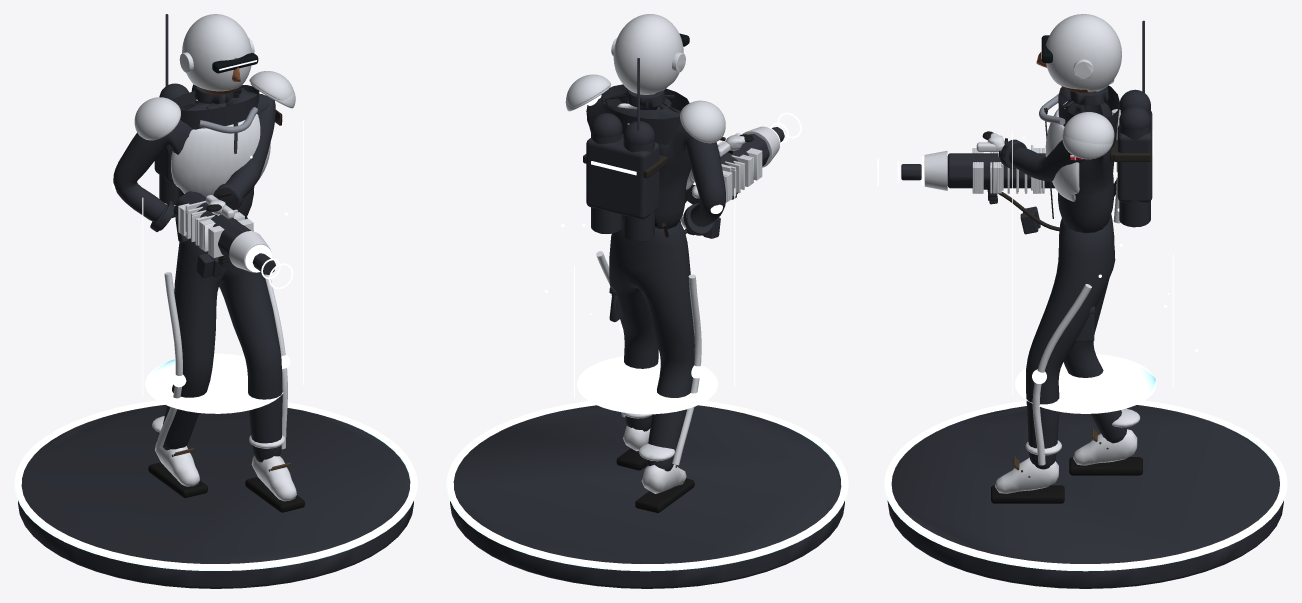
File: straale_krom.glb
3 renders of one model, left to right at view 1: azimuth 30°, elevation 25°; view 2: azimuth 150°, elevation 25°; view 3: azimuth 270°, elevation 25°, orthographic.
Visible parts, largest first — view 1: fod_net, menneske_net, op2.001_net, op4.002_net, hoved_net, op3.001_net, vaaben_net, op4.001_net, op4_net, ned1_net, ned3.001_net; view 2: fod_net, menneske_net, op3.001_net, op4.002_net, hoved_net, op4.001_net, vaaben_net, op4_net, ned1_net, ned1.001_net; view 3: fod_net, menneske_net, op4.002_net, hoved_net, op3.001_net, vaaben_net, op4.001_net, op2.001_net, ned3.001_net.
Boxes of the visible parts, box(x1,y1,x2,y2) form: fod_net: box(14, 400, 417, 588); menneske_net: box(113, 83, 304, 512); op2.001_net: box(171, 107, 290, 468); op4.002_net: box(142, 120, 303, 413); hoved_net: box(179, 14, 258, 94); op3.001_net: box(134, 14, 293, 182); vaaben_net: box(173, 191, 271, 272); op4.001_net: box(111, 91, 290, 449); op4_net: box(178, 203, 293, 289); ned1_net: box(182, 200, 250, 256); ned3.001_net: box(144, 83, 295, 140); fod_net: box(446, 401, 848, 588); menneske_net: box(586, 84, 753, 513); op3.001_net: box(566, 58, 725, 219); op4.002_net: box(545, 135, 735, 414); hoved_net: box(611, 14, 689, 94); op4.001_net: box(587, 95, 722, 465); vaaben_net: box(655, 126, 780, 235); op4_net: box(683, 112, 801, 238); ned1_net: box(719, 142, 760, 198); ned1.001_net: box(647, 155, 713, 235); fod_net: box(884, 400, 1287, 588); menneske_net: box(982, 85, 1150, 503); op4.002_net: box(1012, 130, 1198, 413); hoved_net: box(1036, 14, 1121, 92); op3.001_net: box(1063, 20, 1153, 202); vaaben_net: box(921, 142, 1116, 196); op4.001_net: box(1032, 109, 1120, 465); op2.001_net: box(1013, 94, 1094, 467); ned3.001_net: box(1062, 80, 1113, 159).
Size of the model in its own units: 1.94 by 2.59 by 1.97.
